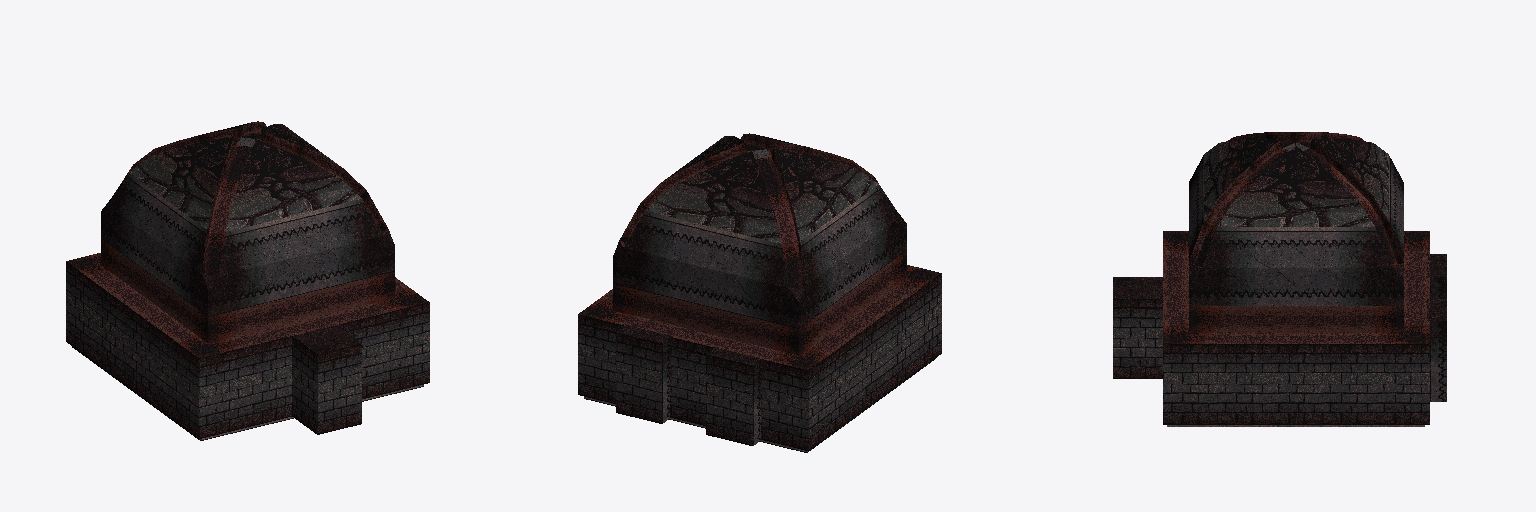
3 renders of one model, left to right at view 1: azimuth 30°, elevation 25°; view 2: azimuth 150°, elevation 25°; view 3: azimuth 270°, elevation 25°, orthographic.
Visible parts, largest first — view 1: Cube1; view 2: Cube1; view 3: Cube1.
Part boxes in pixels (x1,y1,x2,y2): Cube1: (66, 121, 429, 440); Cube1: (578, 133, 941, 452); Cube1: (1113, 132, 1446, 426).
Bounding box in the file's own units: 5.98 × 5.8 × 7.52.
Materials: 1 (1 with a texture image).